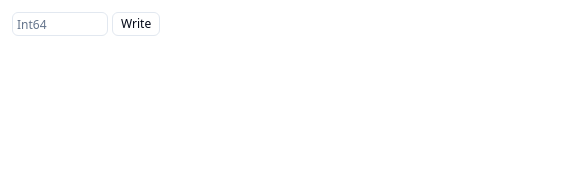
Test case: WriteControl › rejects unrepresentable input without calling the API
The image size is (563, 172).
Type "9007199254740993" into the number field named "Value for speed".
click(60, 24); type("9007199254740993")  # box [12,12,108,36]
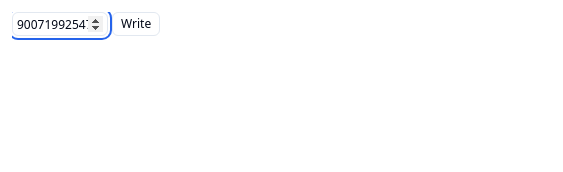
Click the button "Write".
click(136, 24)  # box [112,12,160,36]
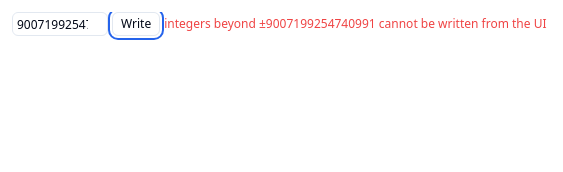
Check: the message reads "integers beyond ±9007199254740991 cannot be written from the UI", box [164,15,546,32]
